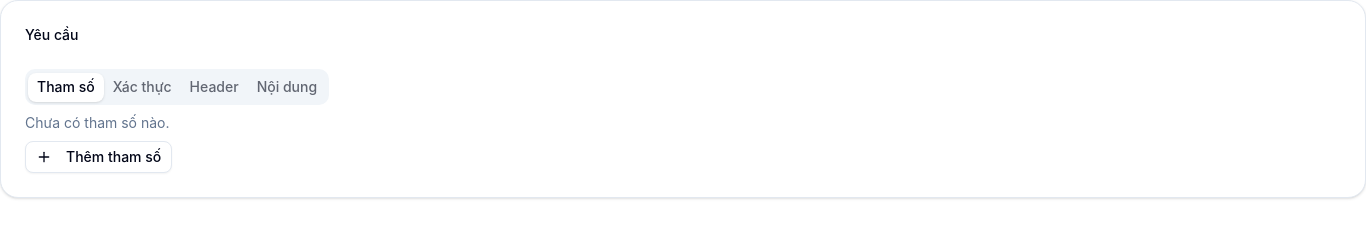
RequestPanel › switches to the Headers tab and shows header rows
This screenshot has width=1366, height=232.
Click the tab "Header".
click(214, 87)  # box [181, 72, 248, 102]
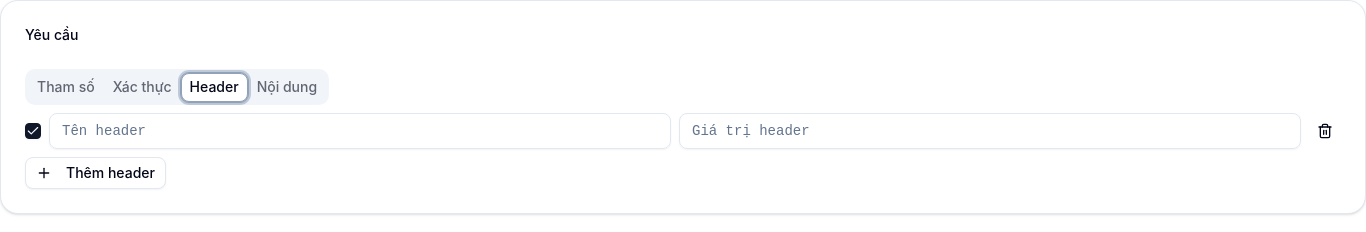
Check: the field with placeholder "Tên header" is shown, box [49, 113, 671, 149]
